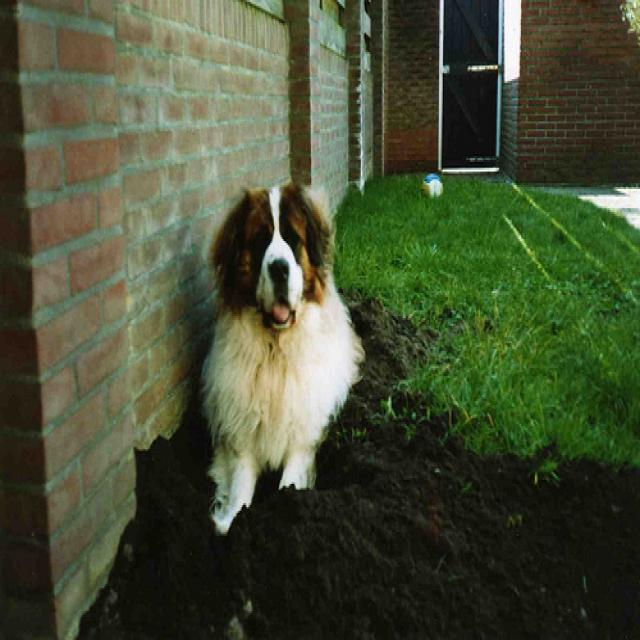dog-saint_bernard: (197, 173, 371, 540)
